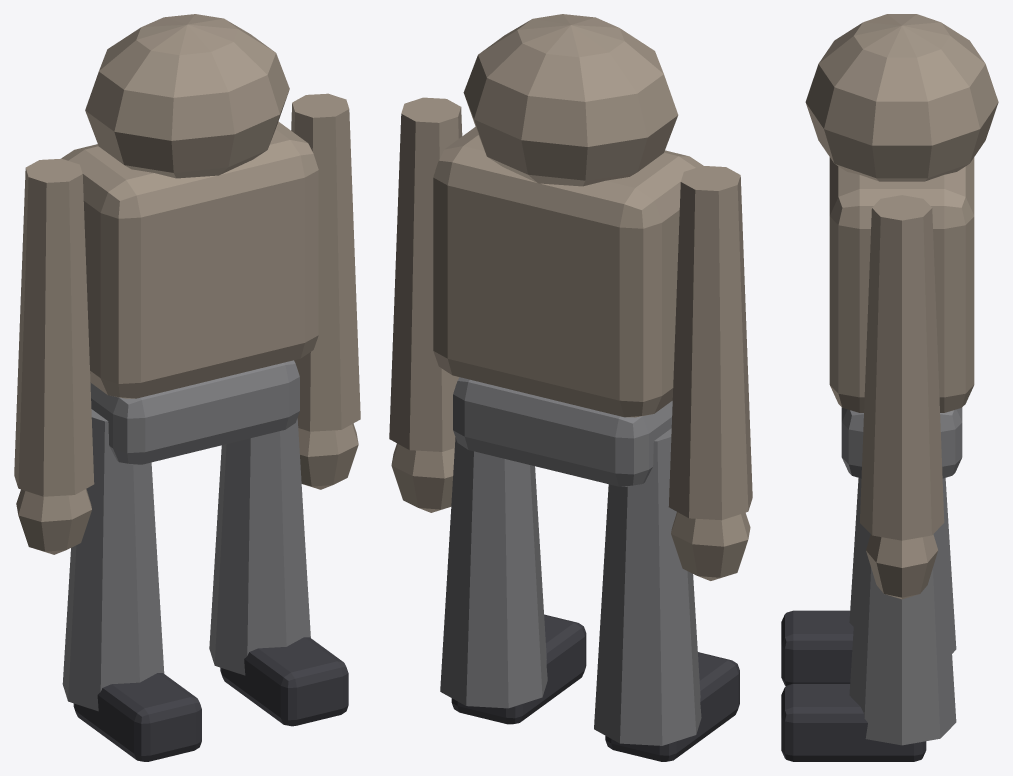
Rendered from mutant_burrower.glb.
The picture shows the model from 3 angles, left to right: view 1: azimuth 30°, elevation 25°; view 2: azimuth 150°, elevation 25°; view 3: azimuth 270°, elevation 25°; orthographic projection. The views are drawn at different scales.
Visible parts, largest first — view 1: mut_burrower_torso, mut_burrower_head, mut_burrower_arm_l, mut_burrower_leg_l, mut_burrower_leg_r, mut_burrower_arm_r, mut_burrower_pelvis, mut_burrower_foot_r, mut_burrower_foot_l, mut_burrower_hand_l, mut_burrower_hand_r; view 2: mut_burrower_torso, mut_burrower_head, mut_burrower_arm_l, mut_burrower_leg_l, mut_burrower_leg_r, mut_burrower_arm_r, mut_burrower_pelvis, mut_burrower_hand_l, mut_burrower_foot_r, mut_burrower_foot_l, mut_burrower_hand_r; view 3: mut_burrower_head, mut_burrower_arm_r, mut_burrower_torso, mut_burrower_leg_r, mut_burrower_foot_r, mut_burrower_foot_l, mut_burrower_hand_r, mut_burrower_pelvis, mut_burrower_leg_l.
Part boxes in pixels (x1,y1,x2,y2): mut_burrower_torso: (61,121,318,398); mut_burrower_head: (85,14,289,178); mut_burrower_arm_l: (14,158,94,496); mut_burrower_leg_l: (62,409,164,711); mut_burrower_leg_r: (209,418,310,675); mut_burrower_arm_r: (291,93,360,431); mut_burrower_pelvis: (90,360,299,464); mut_burrower_foot_r: (220,637,348,726); mut_burrower_foot_l: (73,673,201,761); mut_burrower_hand_l: (16,489,91,554); mut_burrower_hand_r: (298,423,358,489); mut_burrower_torso: (433,127,702,417); mut_burrower_head: (463,14,678,186); mut_burrower_arm_l: (668,165,752,520); mut_burrower_leg_l: (594,428,701,745); mut_burrower_leg_r: (440,437,547,708); mut_burrower_arm_r: (389,97,462,451); mut_burrower_pelvis: (453,377,672,486); mut_burrower_hand_l: (671,512,750,580); mut_burrower_foot_r: (451,614,586,724); mut_burrower_foot_l: (605,652,739,761); mut_burrower_hand_r: (391,443,454,512); mut_burrower_head: (805,14,998,181); mut_burrower_arm_r: (860,195,944,540); mut_burrower_torso: (829,157,974,412); mut_burrower_leg_r: (849,523,956,745); mut_burrower_foot_r: (781,683,926,761); mut_burrower_foot_l: (781,610,853,685); mut_burrower_hand_r: (866,534,938,599); mut_burrower_pelvis: (841,407,962,478); mut_burrower_leg_l: (849,478,956,653).
Bounding box in the file's own units: 0.66 × 1.26 × 0.36.
